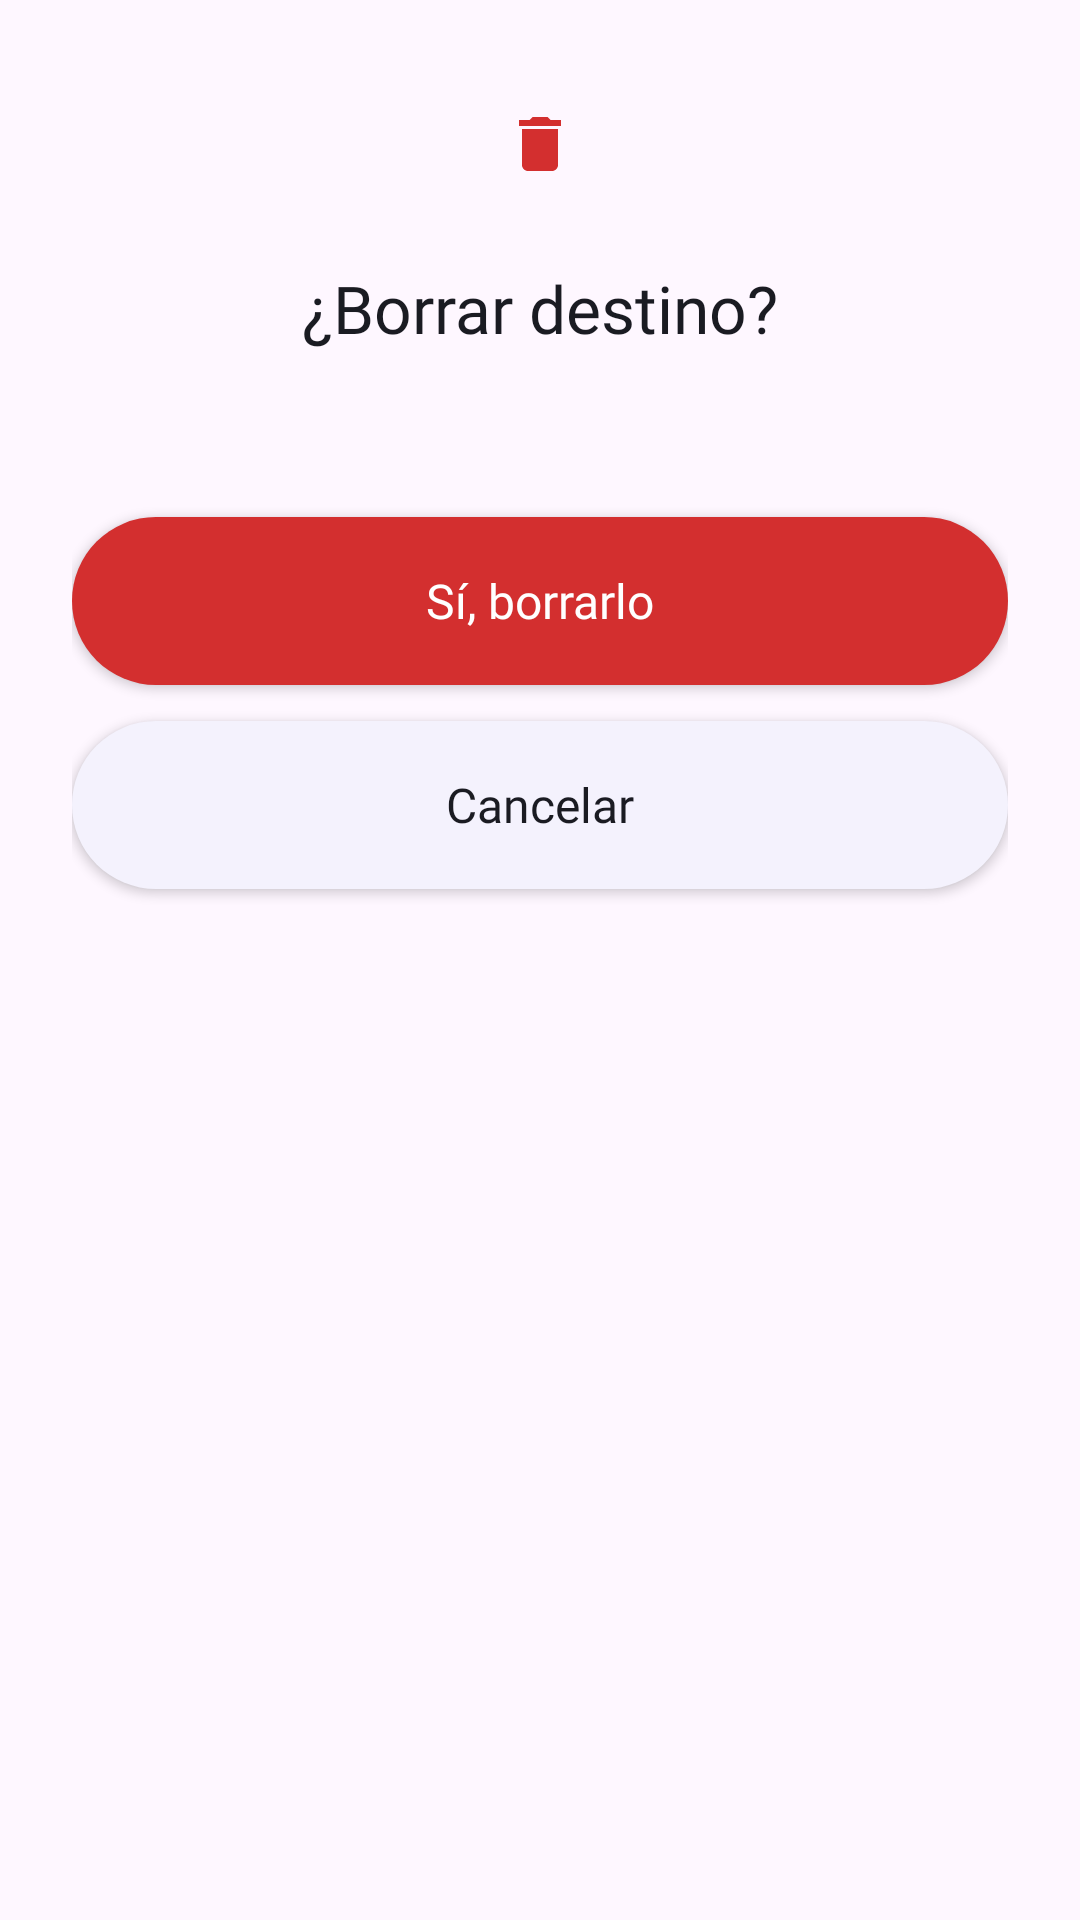

Screen size 1080px x 1920px. Icon name, then its box in pixels as (left=x1, top=y1, right=x2, bottom=y2):
delete: (left=519, top=117, right=561, bottom=171)
